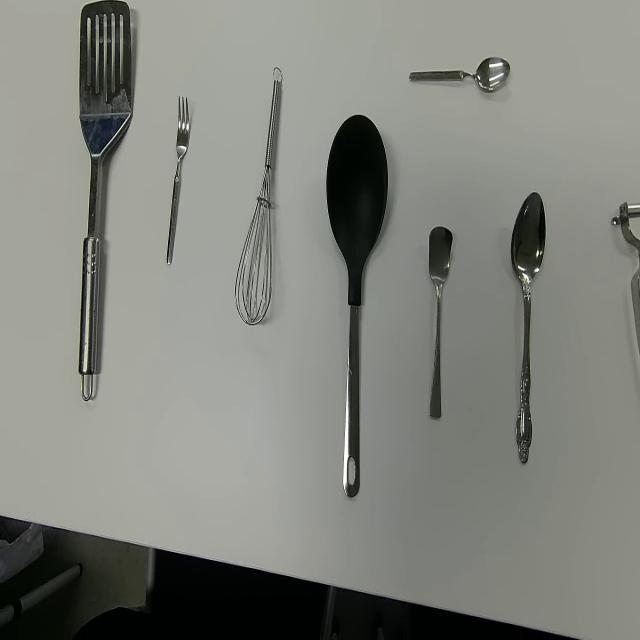Desert-Spoon: (510, 191, 547, 466)
Dinner-Fork: (166, 95, 190, 267)
Peeler: (610, 200, 640, 362)
Serving-Spoon: (325, 112, 389, 500), (76, 0, 133, 404)
Tea-Spoon: (428, 224, 453, 421), (408, 54, 511, 94)
Whisk: (234, 65, 283, 326)
